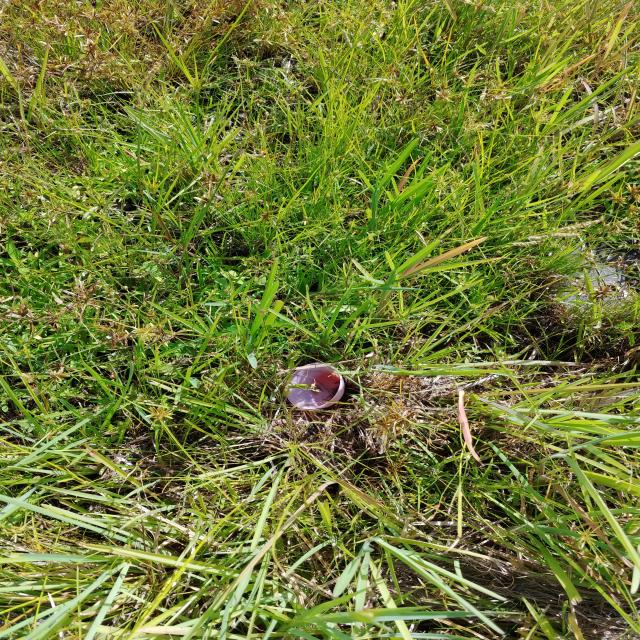litter: (468, 215, 571, 280)
